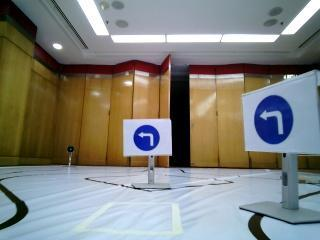left: (241, 91, 319, 154), (125, 121, 167, 153)
